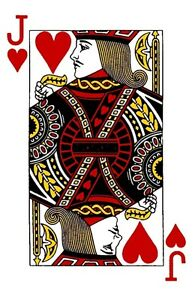jack of hearts: (4, 7, 195, 287)
